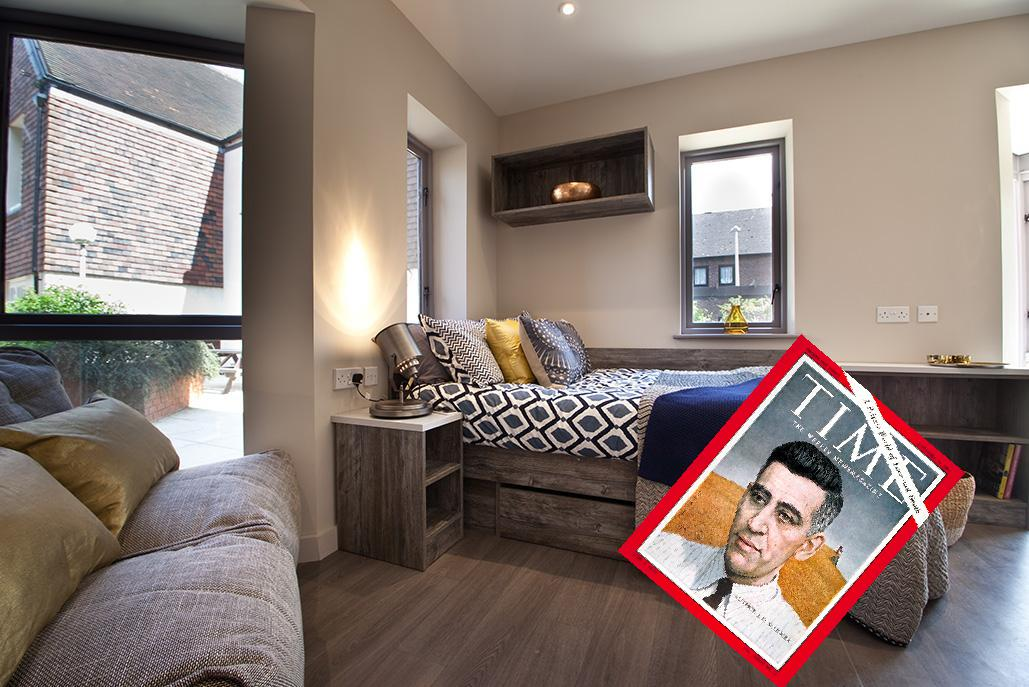times: (615, 333, 967, 684)
